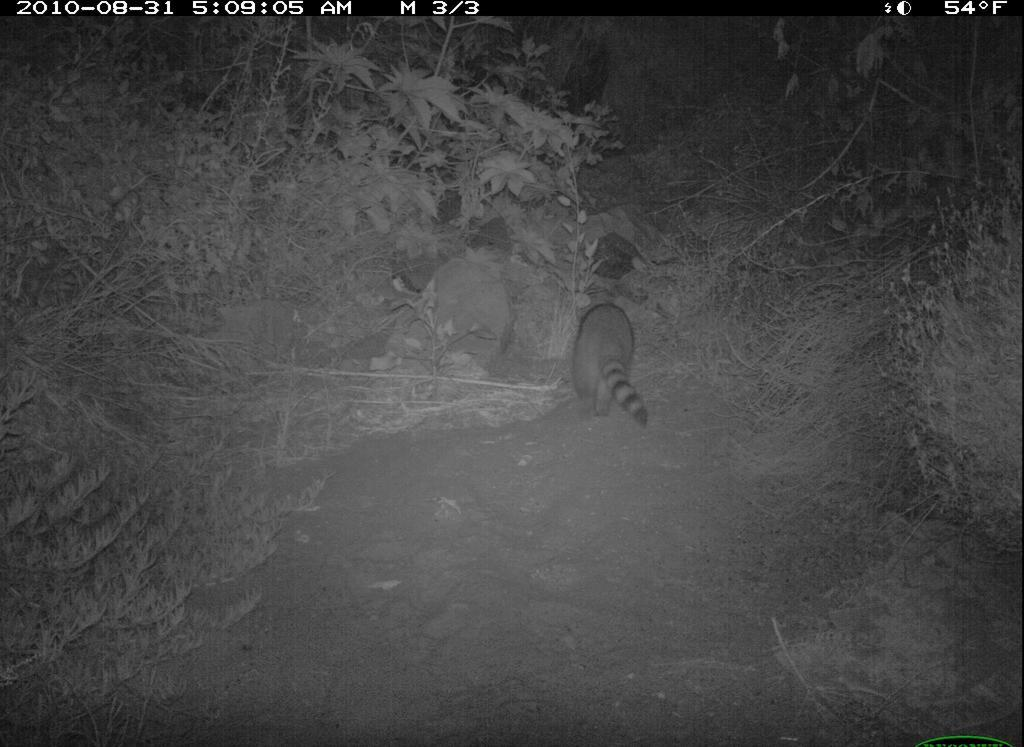raccoon: (566, 296, 658, 436)
